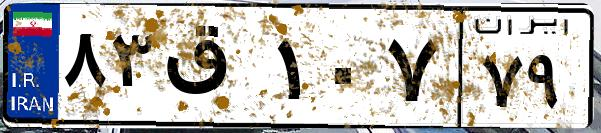0: (330, 28, 385, 110)
1: (270, 28, 330, 110)
3: (110, 28, 158, 98)
7: (385, 28, 445, 110), (475, 38, 525, 113)
8: (57, 26, 110, 100)
9: (525, 38, 570, 115)
ق: (158, 20, 270, 120)
